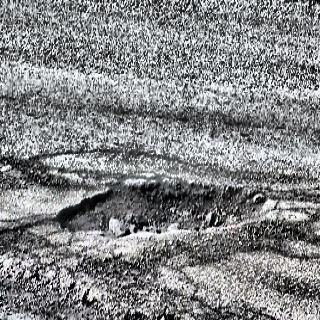pothole: (54, 169, 278, 249)
